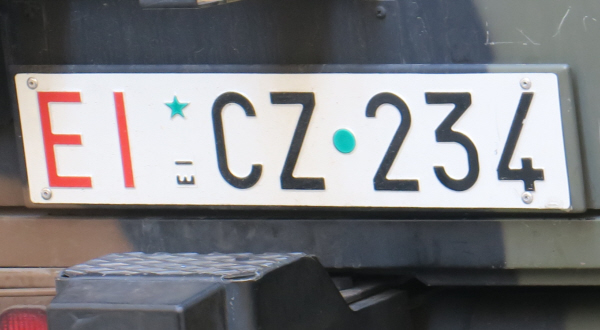license_plate: (13, 70, 573, 208)
